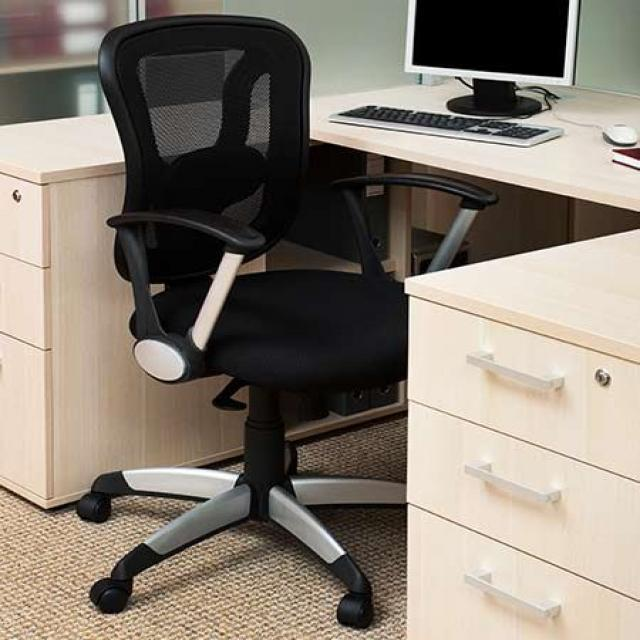chair: (80, 5, 473, 640)
